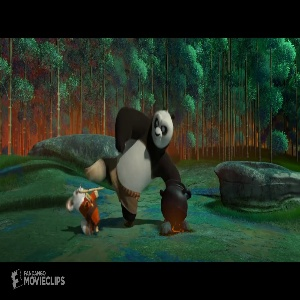po: (84, 94, 189, 228)
shifu: (62, 185, 107, 236)
